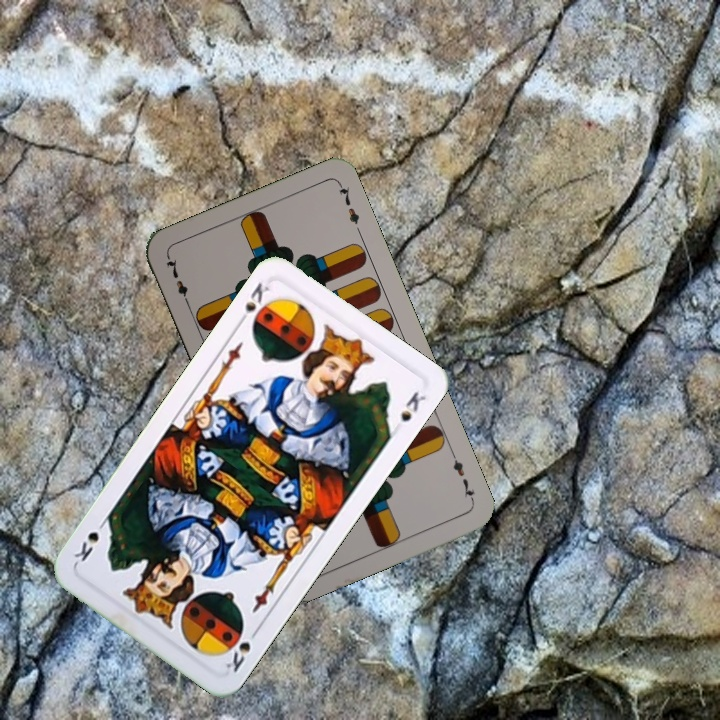E7: (161, 253, 193, 309), (447, 448, 478, 504)
SK: (221, 620, 262, 675), (233, 278, 273, 329)
